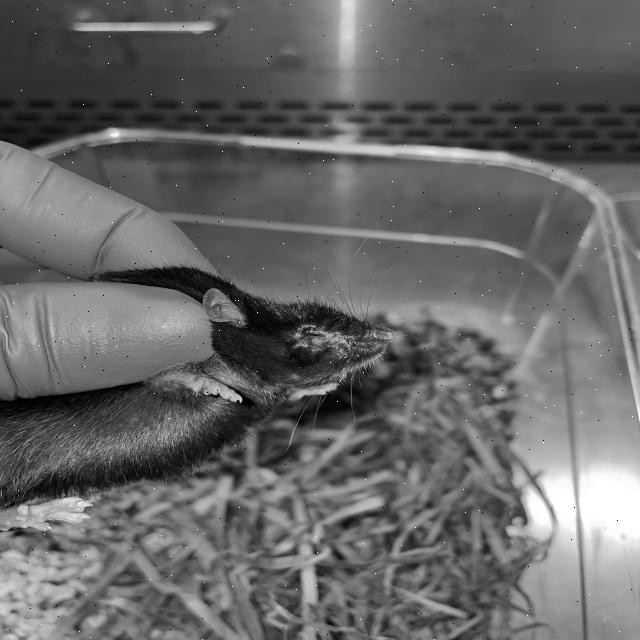Face: (190, 271, 404, 408)
